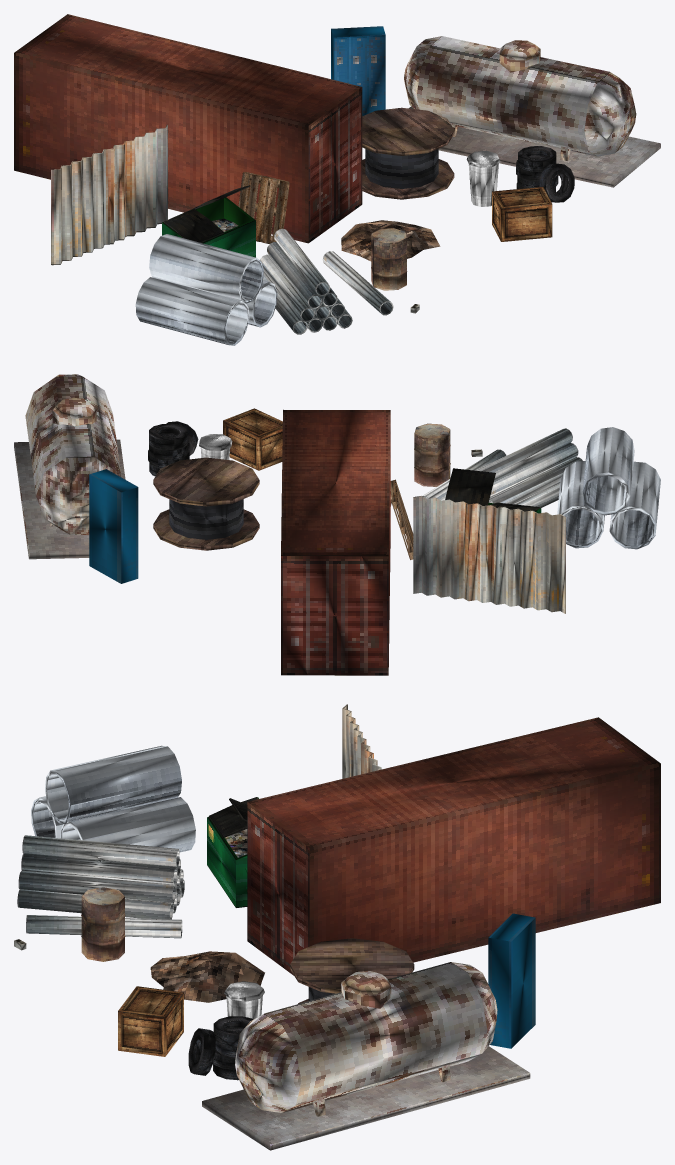
The model's file is psx-industrial-pack-12cb74.glb.
3 views of the same model, one above another, from view 1: azimuth 30°, elevation 25°; view 2: azimuth 150°, elevation 25°; view 3: azimuth 270°, elevation 25° (orthographic). The views are drawn at different scales.
Parts seen in each view (by area): view 1: PropMesh; view 2: PropMesh; view 3: PropMesh.
Part boxes in pixels (<box>): PropMesh: <box>14,14,660,345</box>; PropMesh: <box>14,374,660,675</box>; PropMesh: <box>14,704,660,1150</box>.
Bounding box in the file's own units: 2.57 × 0.5 × 2.09.
2 materials, 2 textured.
